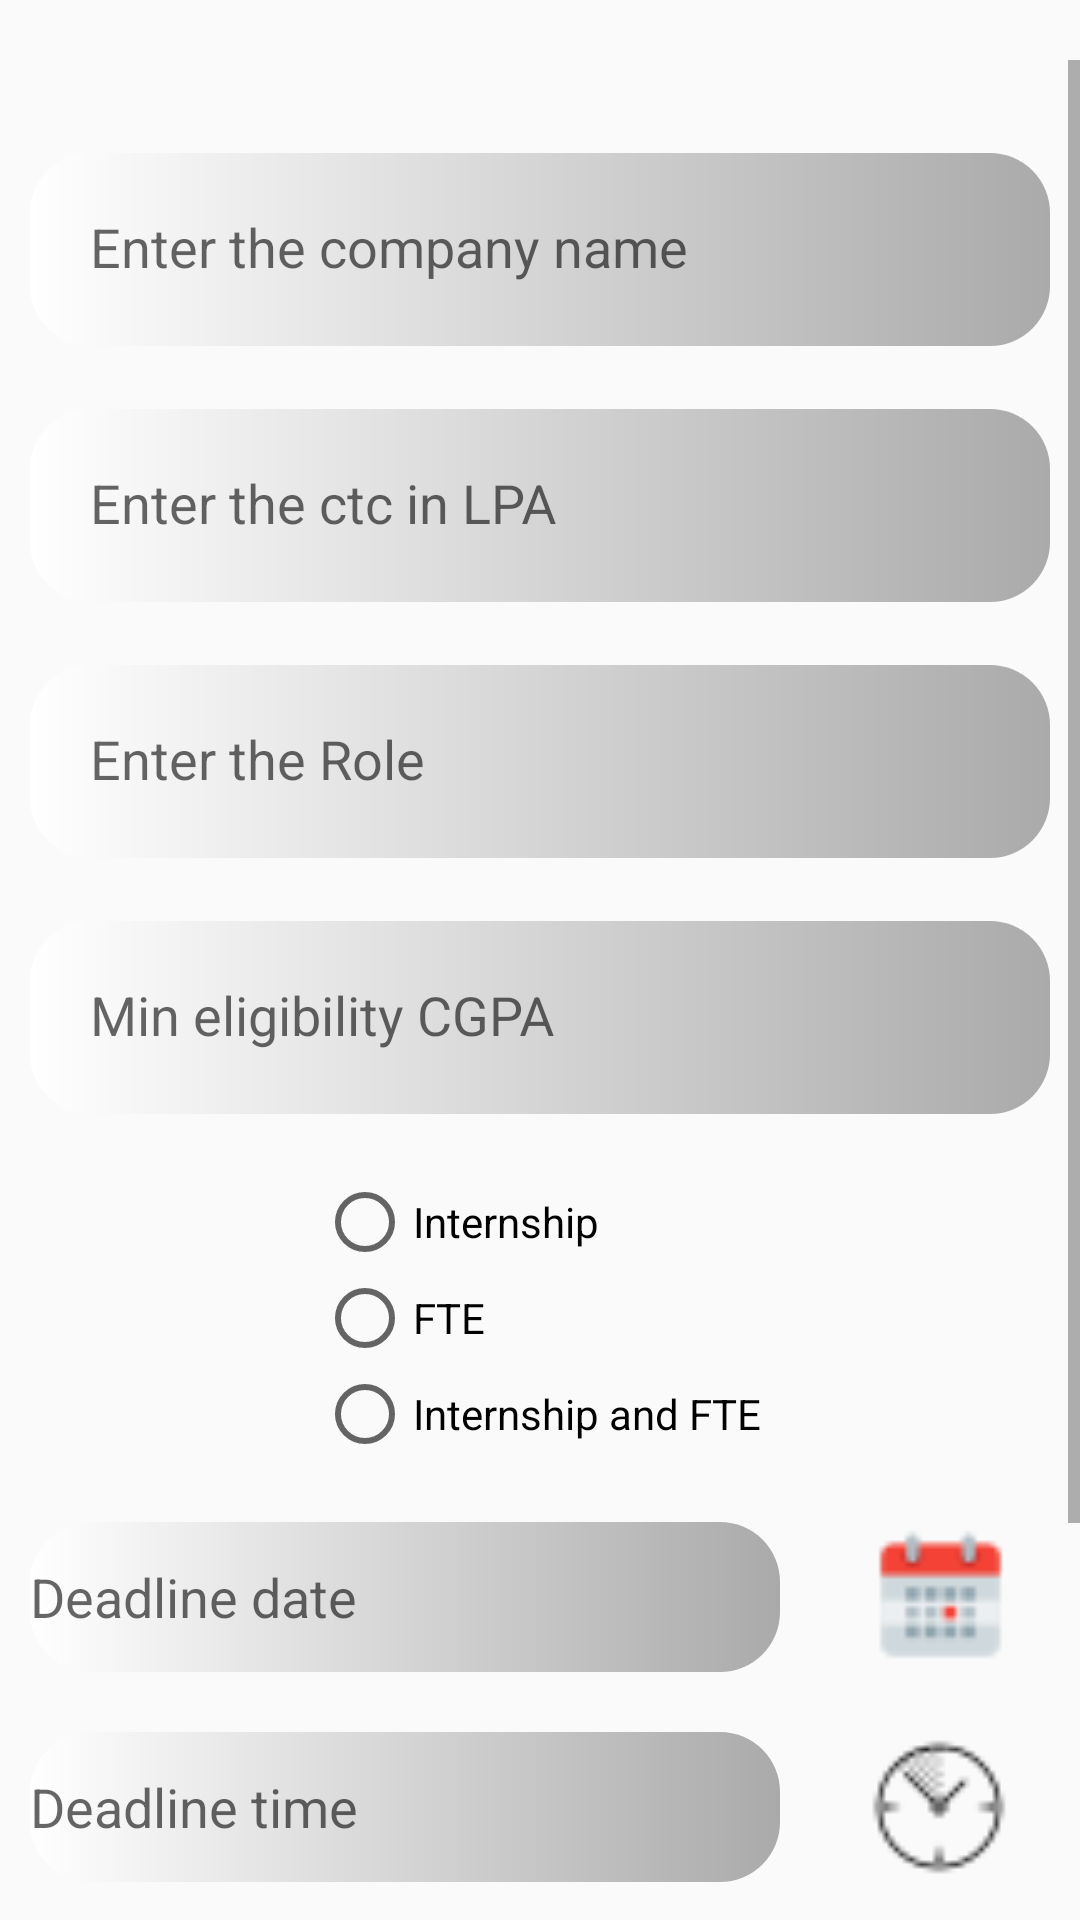

Screen size 1080px x 1920px. Icon name, then its center in pixels as point (x, y):
calender: point (940, 1594)
clock: point (939, 1807)
